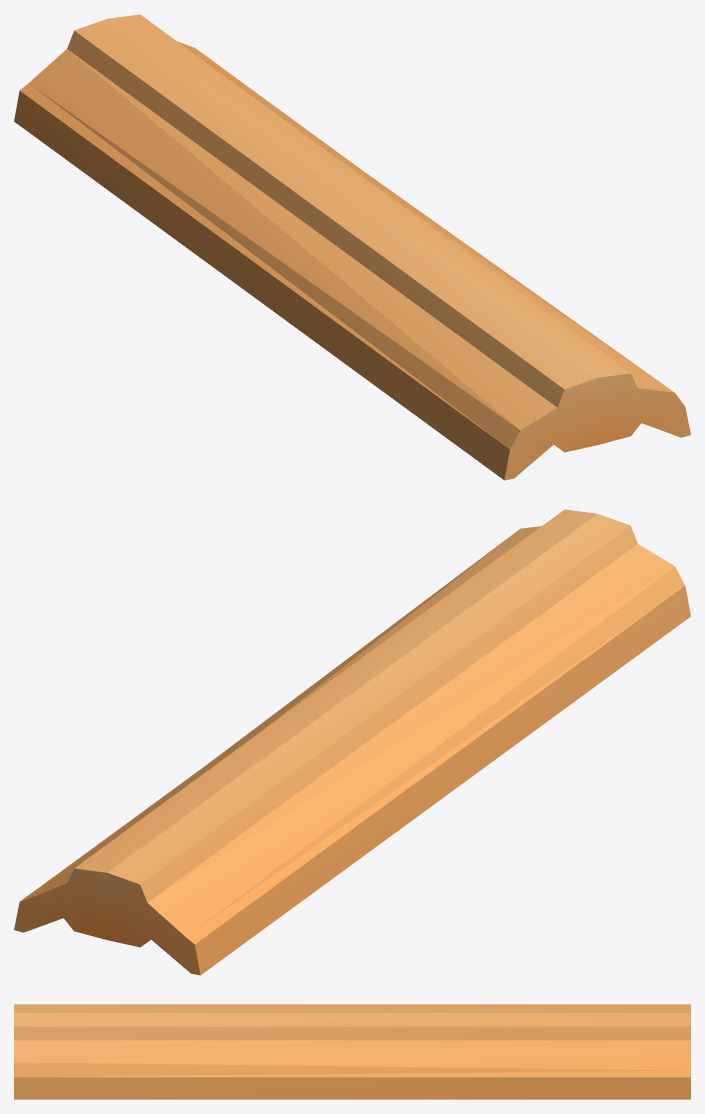
The model's file is Roof_Ridge_01.fbx.
The picture shows the model from 3 angles, top to bottom: view 1: azimuth 30°, elevation 25°; view 2: azimuth 150°, elevation 25°; view 3: azimuth 270°, elevation 25°; orthographic projection. The views are drawn at different scales.
Visible parts, largest first — view 1: Roof_Ridge_01; view 2: Roof_Ridge_01; view 3: Roof_Ridge_01.
Part boxes in pixels (bbox=[...]): Roof_Ridge_01: bbox=[14, 14, 690, 480]; Roof_Ridge_01: bbox=[14, 509, 690, 975]; Roof_Ridge_01: bbox=[14, 1004, 690, 1099].
Bounding box in the file's own units: 1.14 × 0.4706 × 5.2.
